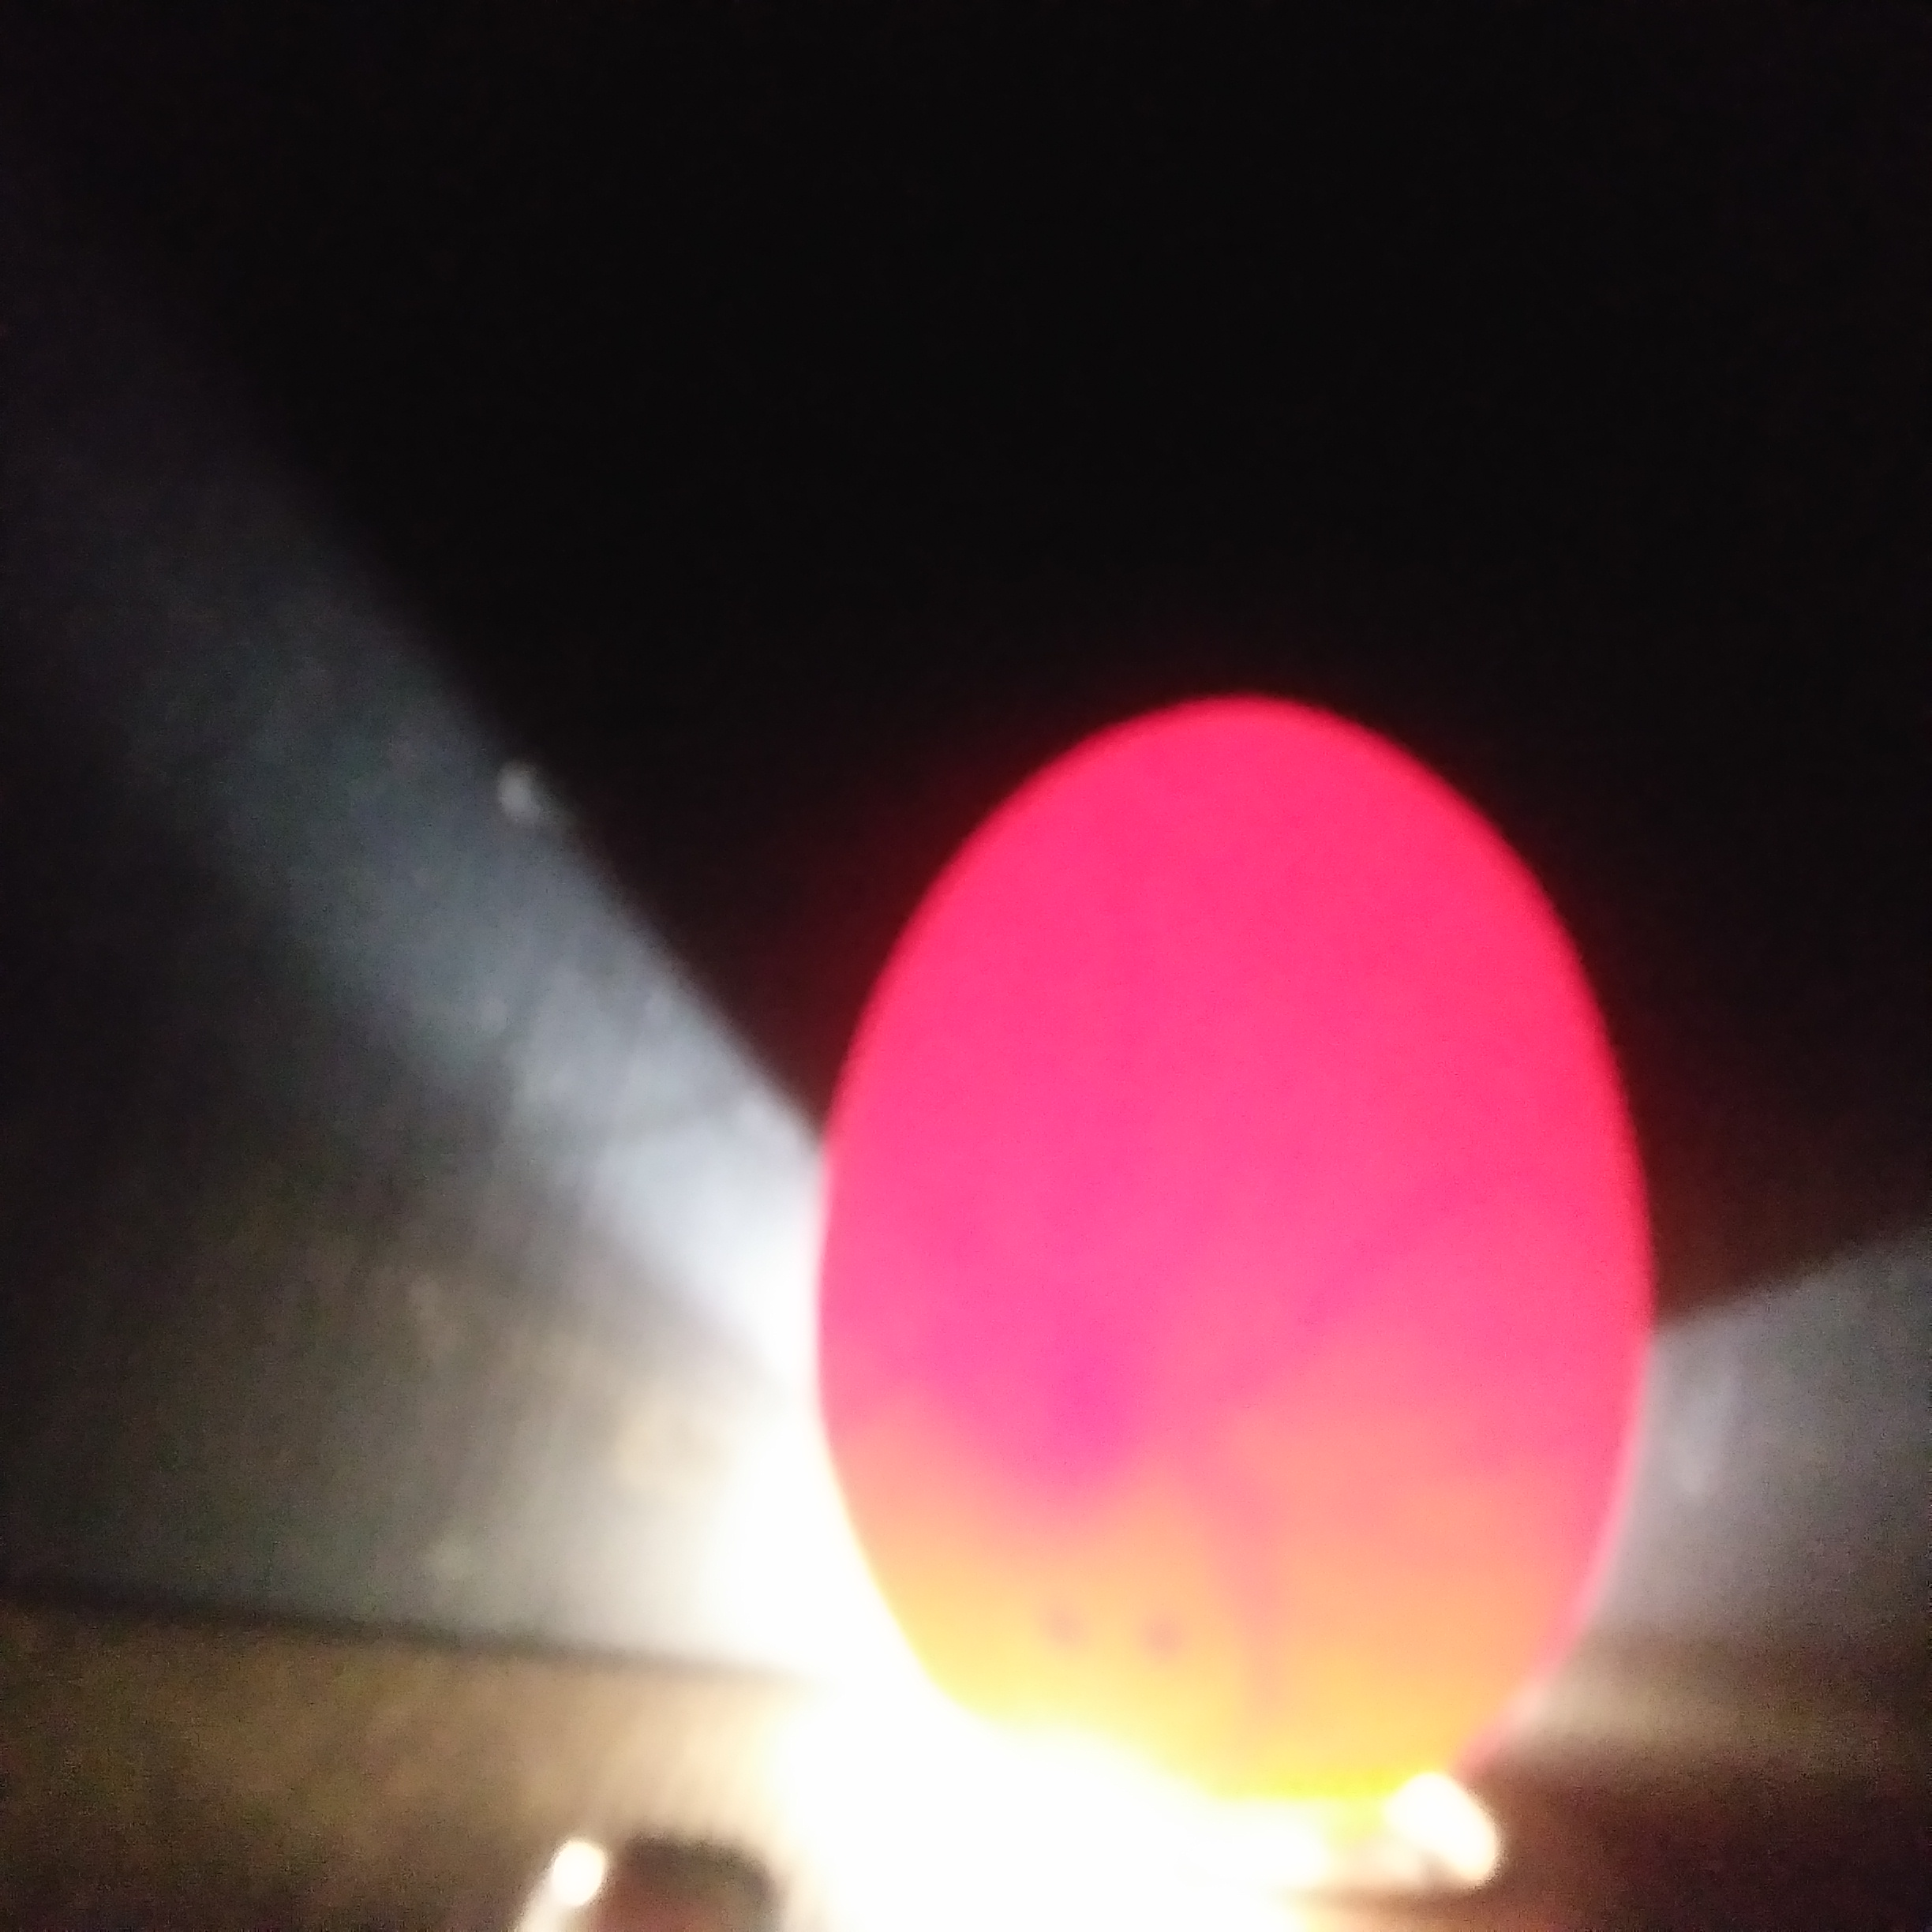bloodcell: (1267, 1047, 1500, 1661)
embryo: (998, 1235, 1191, 1529)
